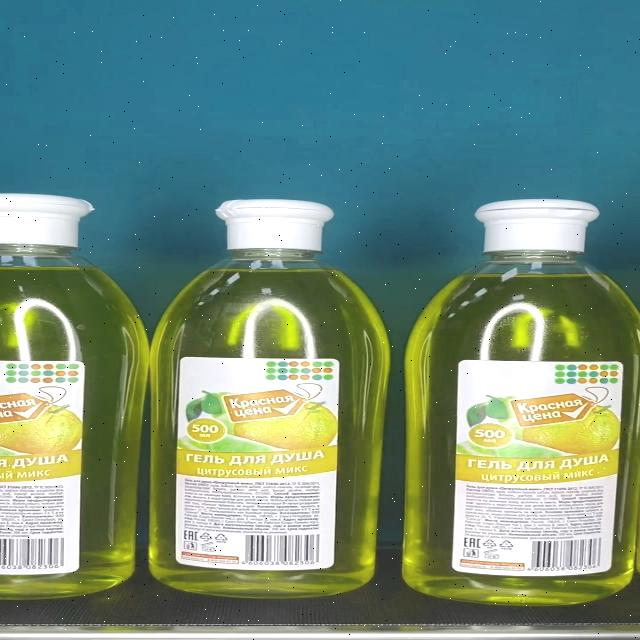Bottle: (403, 198, 640, 606), (149, 198, 390, 598)
Cap: (474, 200, 600, 252), (215, 199, 335, 249)
